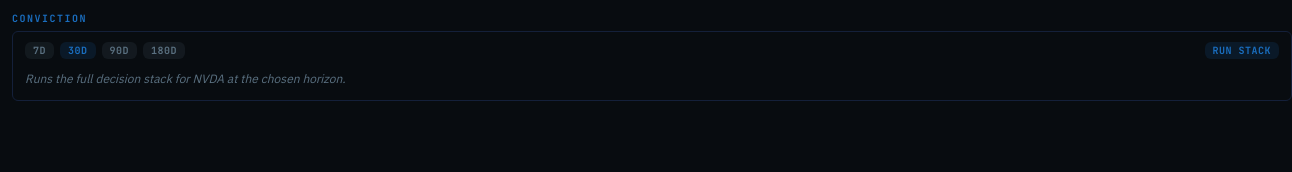
Test case: ConvictionCard › shows the error when the stack fails
Click the button "Run stack". click: [1242, 50]
box: [1204,42,1279,59]
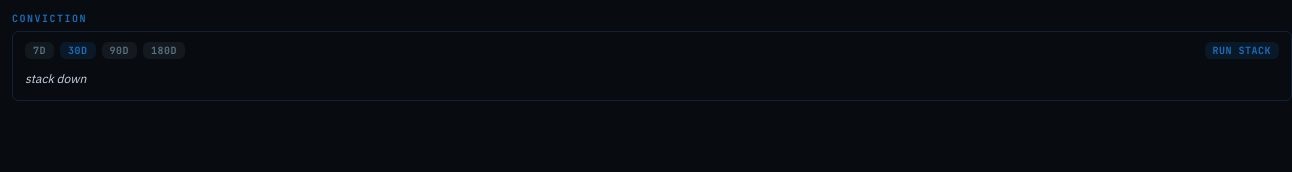
Expected: the text "stack down" is shown, [25,71,86,86]
